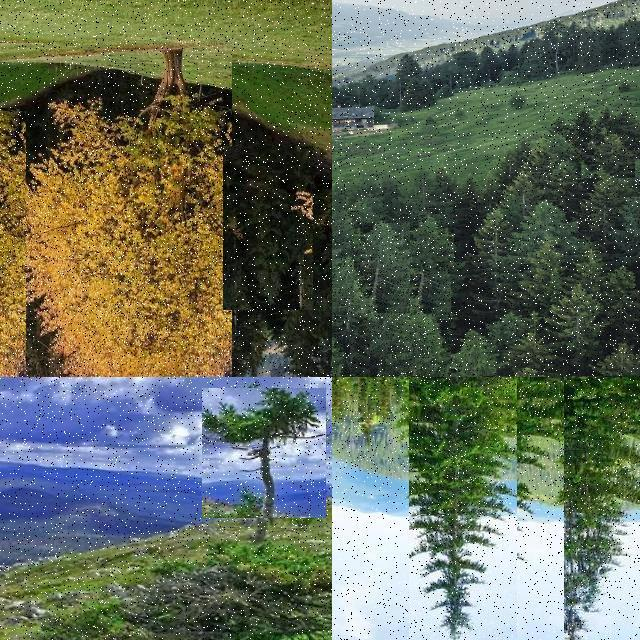tree: (0, 43, 232, 377), (409, 376, 517, 640), (564, 376, 640, 640), (202, 388, 326, 518), (223, 146, 313, 310), (359, 274, 451, 378), (282, 187, 332, 377), (0, 111, 26, 377), (1, 127, 36, 320), (354, 223, 410, 313), (332, 322, 396, 378), (346, 377, 390, 457), (332, 258, 368, 349), (398, 214, 454, 268), (442, 333, 510, 377), (603, 265, 640, 339), (581, 134, 635, 178), (332, 211, 360, 283), (332, 262, 364, 322), (592, 341, 640, 377), (332, 376, 358, 440), (332, 378, 358, 438), (332, 337, 370, 377), (332, 376, 356, 432), (332, 377, 356, 431), (0, 108, 20, 172), (332, 377, 354, 431), (494, 377, 526, 413), (332, 377, 352, 433), (332, 376, 352, 432), (332, 377, 348, 443), (570, 108, 596, 148), (332, 172, 354, 215)
